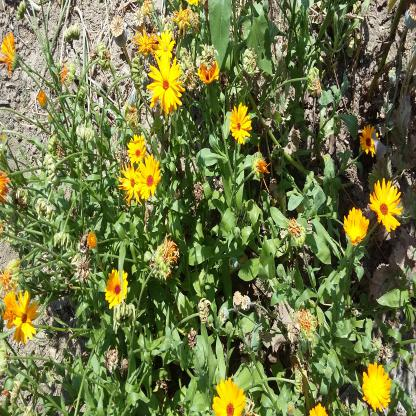marigold: (148, 52, 182, 114), (369, 176, 402, 236), (362, 361, 391, 413), (211, 378, 247, 416), (10, 292, 38, 339), (120, 161, 144, 205), (342, 206, 369, 242), (230, 101, 252, 145), (138, 154, 161, 196), (104, 269, 128, 306), (360, 122, 380, 158), (127, 133, 147, 166), (155, 31, 176, 60), (200, 56, 219, 88)
